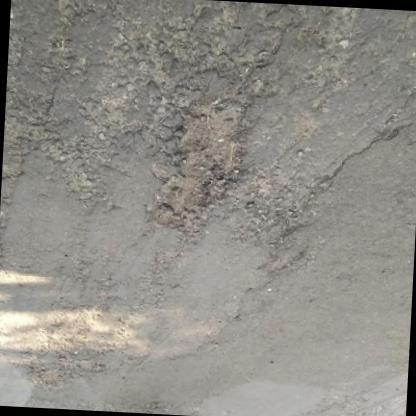pothole: (146, 93, 256, 239), (133, 17, 282, 92), (242, 164, 334, 274), (0, 98, 73, 160)
